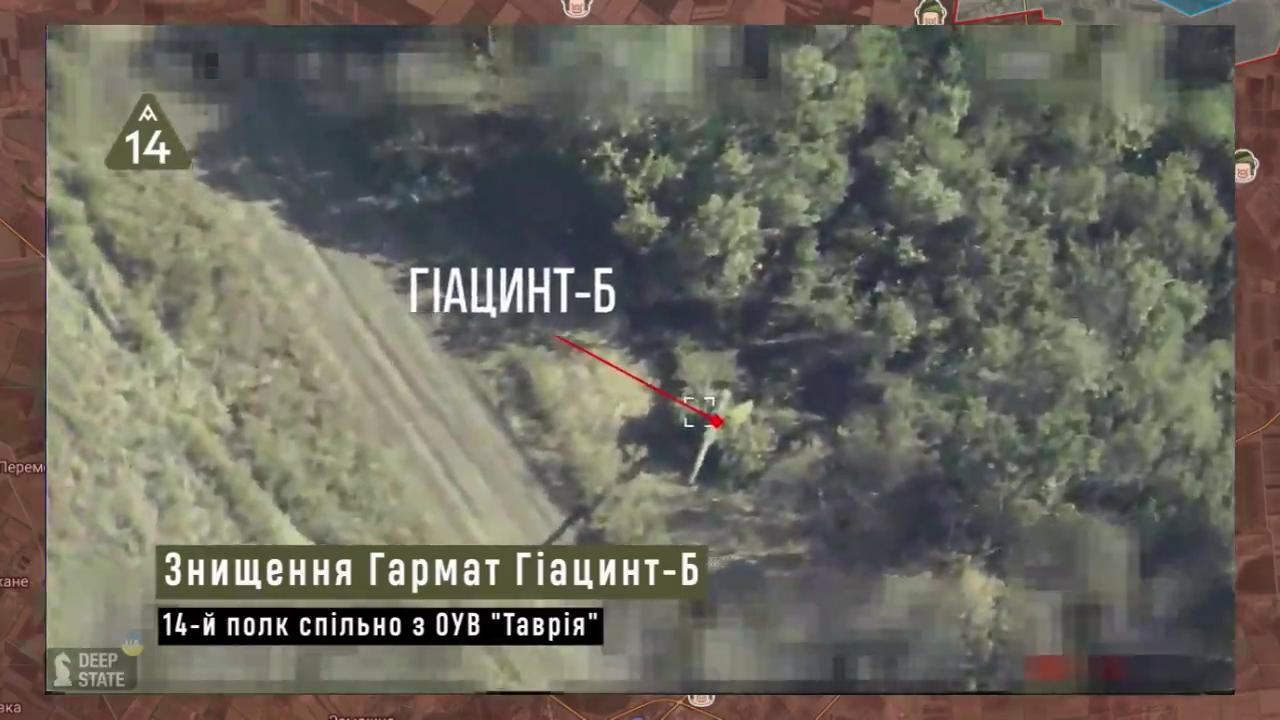tank: (635, 370, 779, 495)
